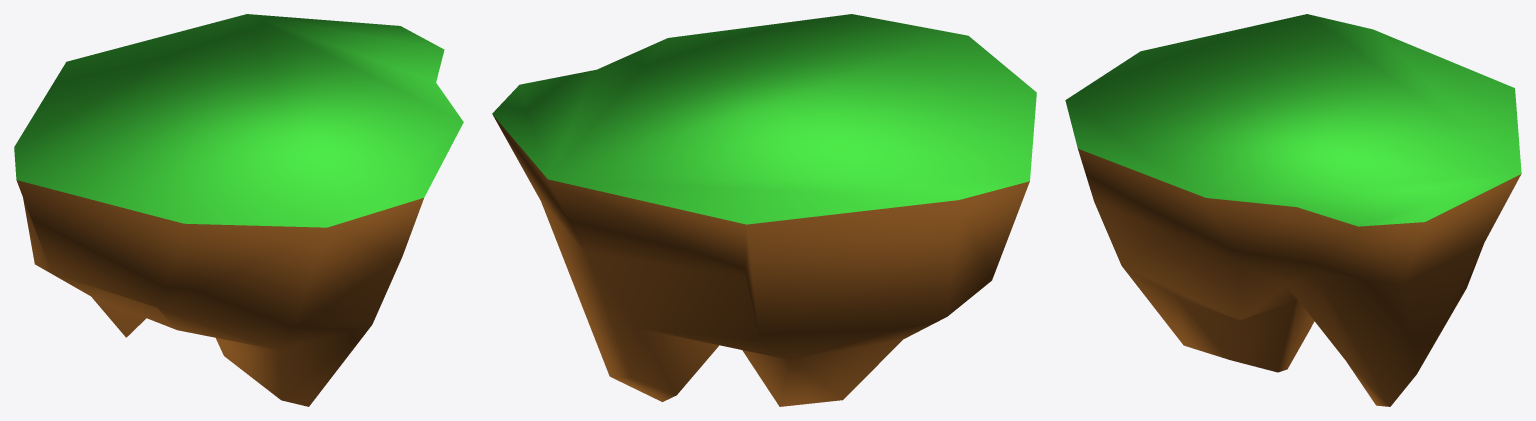
File: Fluing_Island1.fbx
3 views of the same model, side by side, from view 1: azimuth 30°, elevation 25°; view 2: azimuth 150°, elevation 25°; view 3: azimuth 270°, elevation 25° (orthographic). The views are drawn at different scales.
Visible parts, largest first — view 1: Plane; view 2: Plane; view 3: Plane.
Part boxes in pixels (x1,y1,x2,y2): Plane: [14, 14, 463, 406]; Plane: [492, 14, 1036, 406]; Plane: [1065, 14, 1521, 406].
Bounding box in the file's own units: 371 × 201 × 337.
